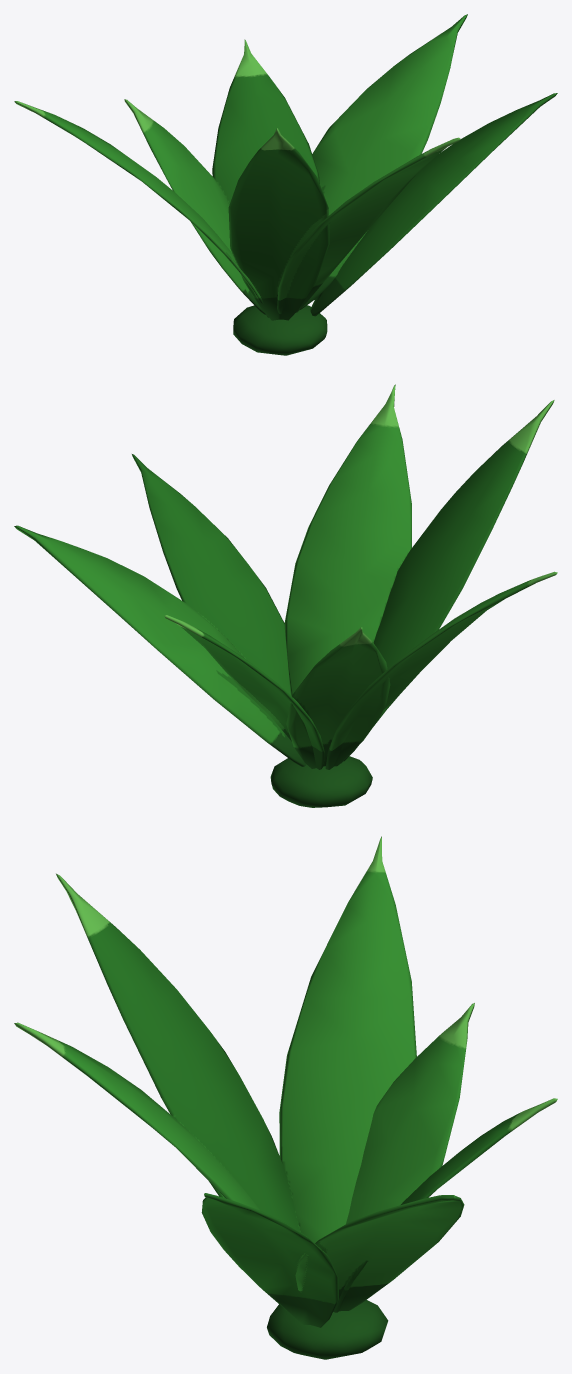
The model's file is TuftJungle.fbx.
3 views of the same model, one above another, from view 1: azimuth 30°, elevation 25°; view 2: azimuth 150°, elevation 25°; view 3: azimuth 270°, elevation 25° (orthographic). The views are drawn at different scales.
Visible parts, largest first — view 1: TuftJungle; view 2: TuftJungle; view 3: TuftJungle.
Part boxes in pixels (bbox=[...]): TuftJungle: bbox=[14, 14, 557, 355]; TuftJungle: bbox=[14, 384, 557, 807]; TuftJungle: bbox=[14, 836, 557, 1359].
Size of the model in its own units: 2.78 by 1.78 by 2.16.
Materials: 1 (1 with a texture image).
